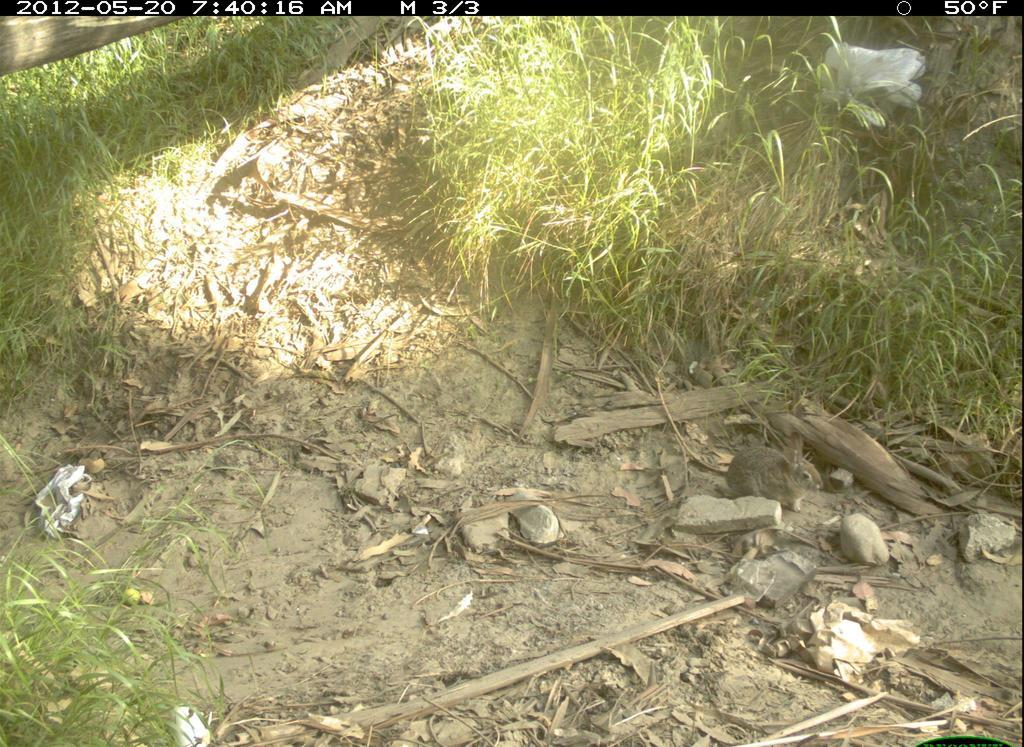rabbit: (715, 428, 838, 528)
